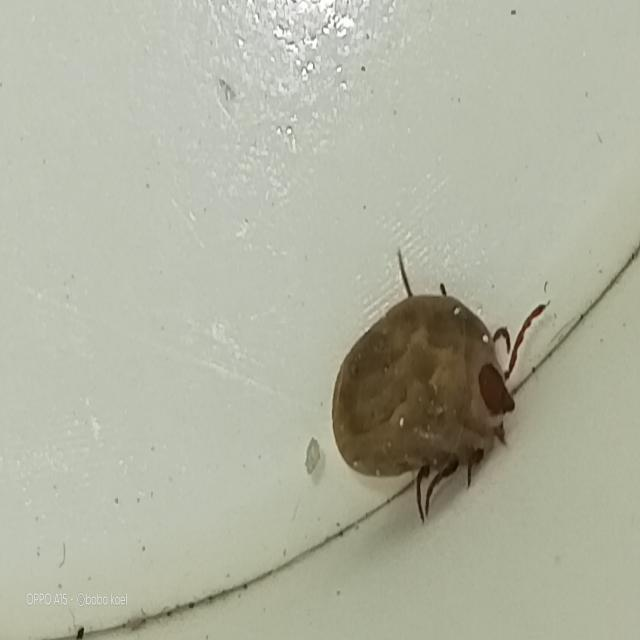Rhipicephalus Sanguineus-F-Fed: (331, 249, 546, 526)
